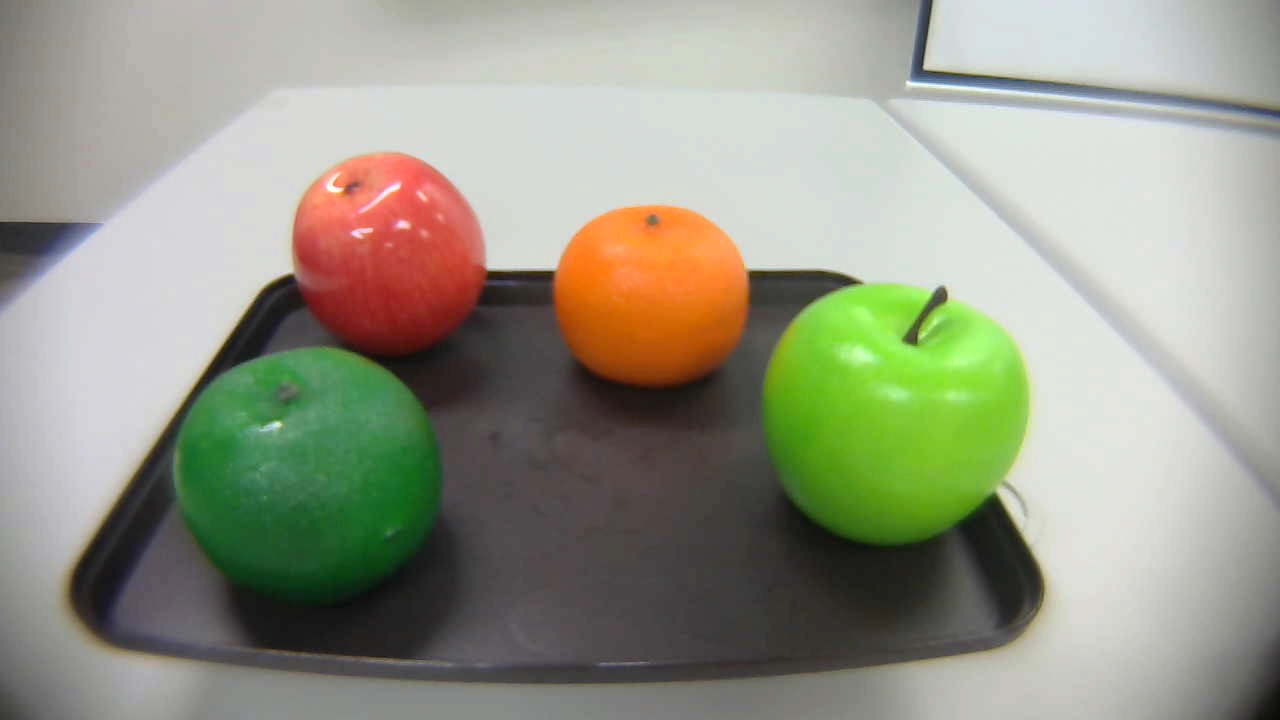green apple: (764, 278, 1030, 553)
green orange: (174, 340, 449, 615)
orange: (554, 205, 757, 390)
red apple: (288, 153, 486, 363)
